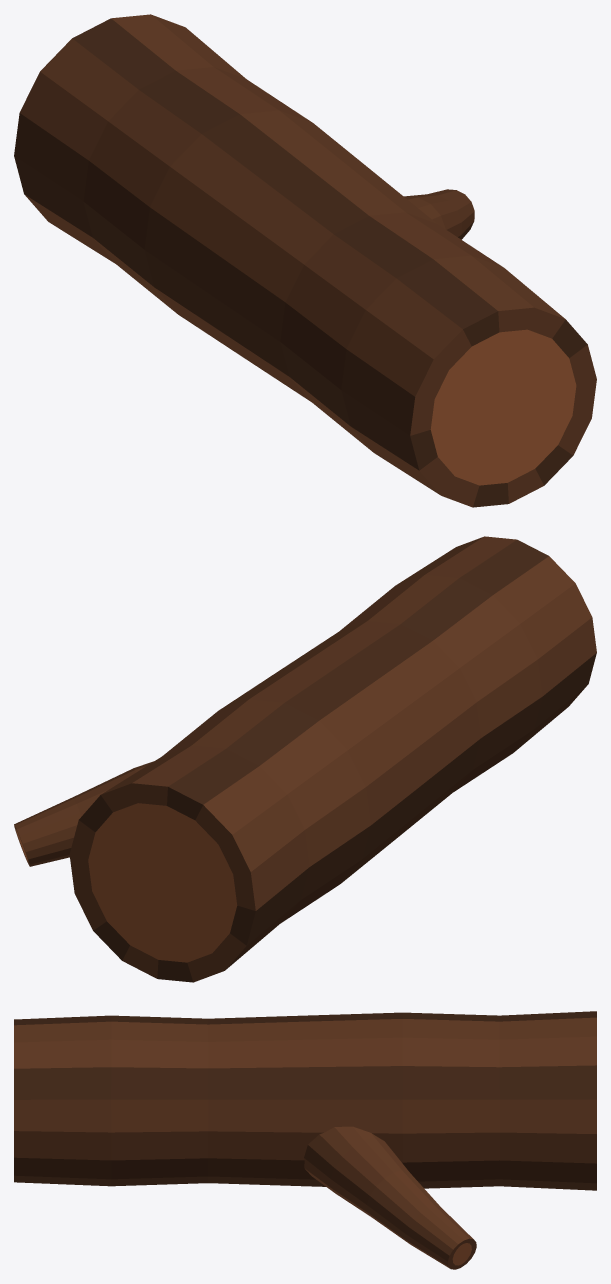
The model's file is PlanksBig1.fbx.
The picture shows the model from 3 angles, top to bottom: view 1: azimuth 30°, elevation 25°; view 2: azimuth 150°, elevation 25°; view 3: azimuth 270°, elevation 25°; orthographic projection. The views are drawn at different scales.
Parts seen in each view (by area): view 1: Cylinder.004; view 2: Cylinder.004; view 3: Cylinder.004.
Part boxes in pixels (x1=…): Cylinder.004: x1=14, y1=14, x2=596, y2=507; Cylinder.004: x1=14, y1=536, x2=596, y2=982; Cylinder.004: x1=14, y1=1011, x2=596, y2=1269.
Size of the model in its own units: 100 by 56.82 by 185.
